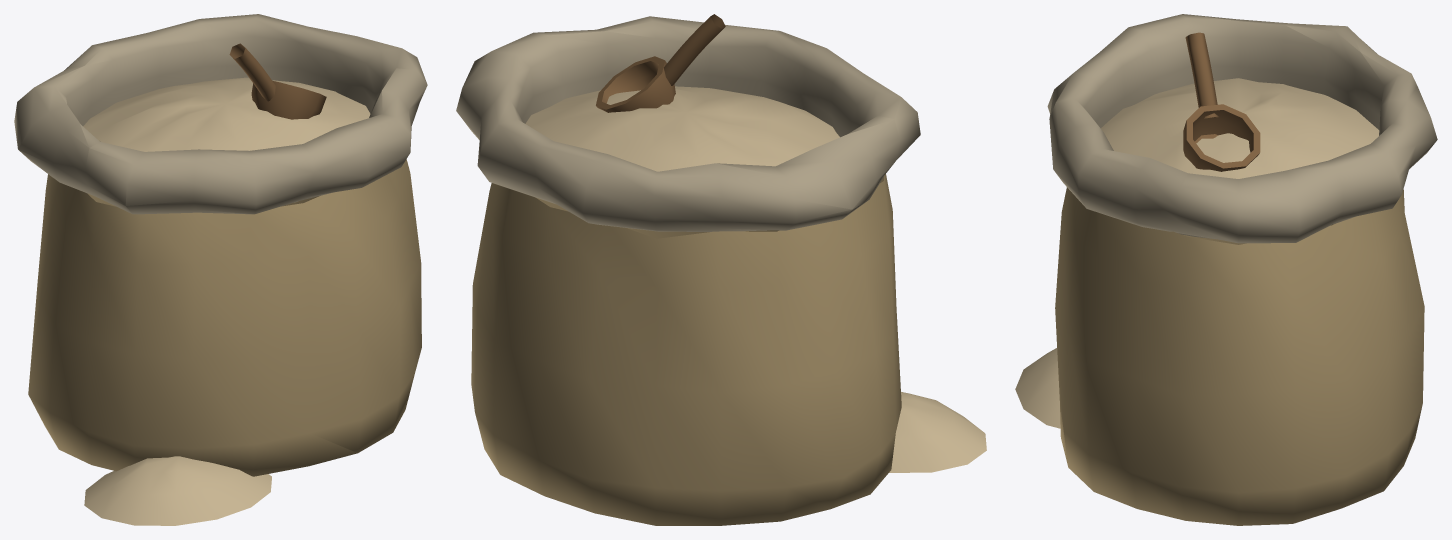
Rendered from SM_LPD_Crate_SackOpen_01.fbx.
3 views of the same model, side by side, from view 1: azimuth 30°, elevation 25°; view 2: azimuth 150°, elevation 25°; view 3: azimuth 270°, elevation 25° (orthographic). The views are drawn at different scales.
Visible parts, largest first — view 1: SM_LPD_Crate_SackOpen_01; view 2: SM_LPD_Crate_SackOpen_01; view 3: SM_LPD_Crate_SackOpen_01.
Boxes of the visible parts, box(x1,y1,x2,y2) form: SM_LPD_Crate_SackOpen_01: box(14, 14, 427, 525); SM_LPD_Crate_SackOpen_01: box(456, 14, 986, 525); SM_LPD_Crate_SackOpen_01: box(1015, 14, 1437, 525).
Size of the model in its own units: 0.5504 by 0.5216 by 0.4825.
